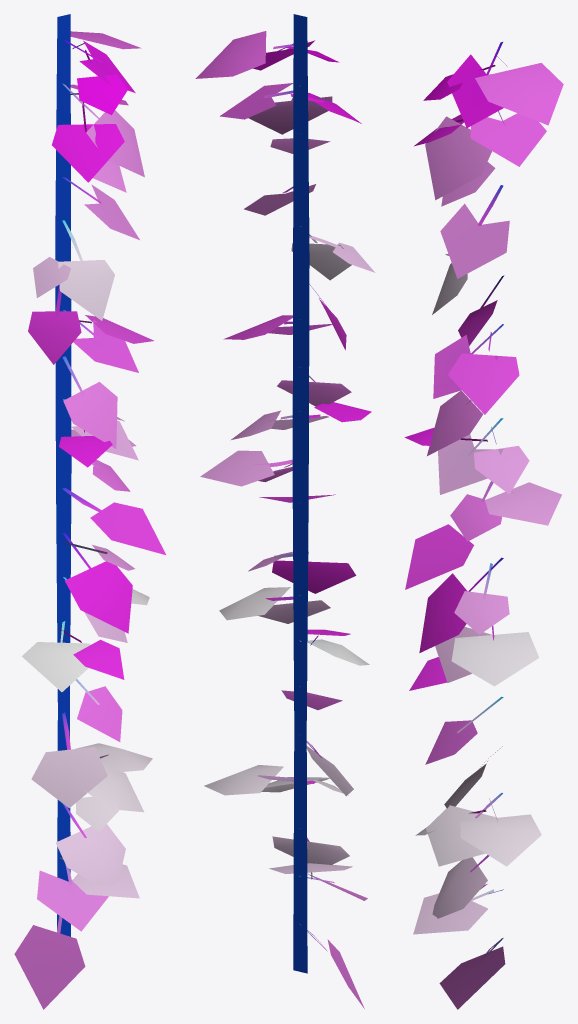
Rendered from English_Ivy_xfcnebhqx_Mid_xfcnebhqx_VarD_LOD2.fbx.
The picture shows the model from 3 angles, left to right: view 1: azimuth 30°, elevation 25°; view 2: azimuth 150°, elevation 25°; view 3: azimuth 270°, elevation 25°; orthographic projection. The views are drawn at different scales.
Visible parts, largest first — view 1: _hikc_VarD_LOD4; view 2: _hikc_VarD_LOD4; view 3: _hikc_VarD_LOD4.
Boxes of the visible parts, left/top/right/bottom form: _hikc_VarD_LOD4: left=14, top=14, right=165, bottom=1009; _hikc_VarD_LOD4: left=195, top=14, right=375, bottom=1008; _hikc_VarD_LOD4: left=404, top=42, right=563, bottom=1009.
Size of the model in its own units: 11.64 by 76.24 by 10.87.
